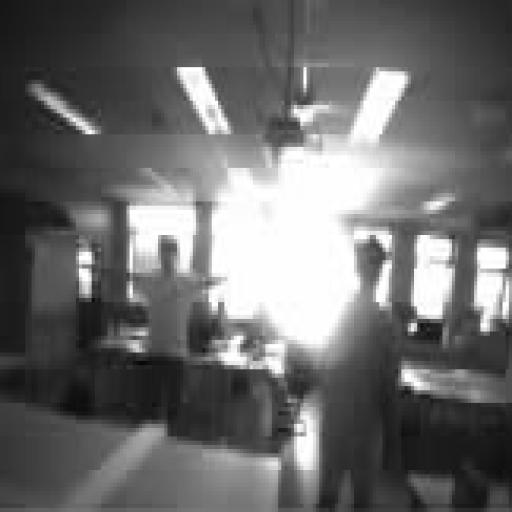human: (320, 240, 401, 511), (133, 236, 211, 423)
